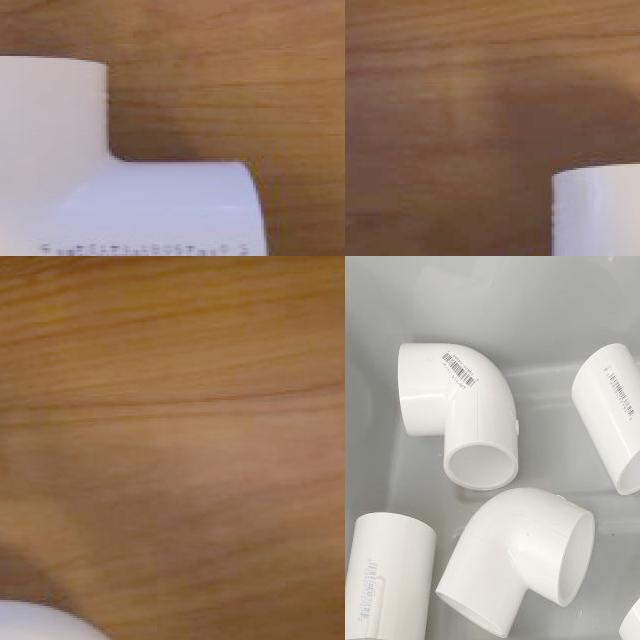L Joint: (0, 56, 268, 256), (435, 488, 597, 640), (396, 343, 522, 497)
